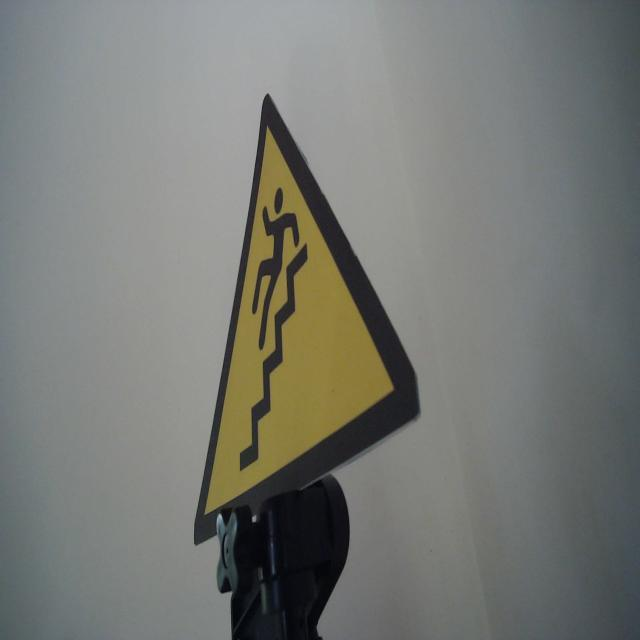stairs: (192, 92, 422, 549)
